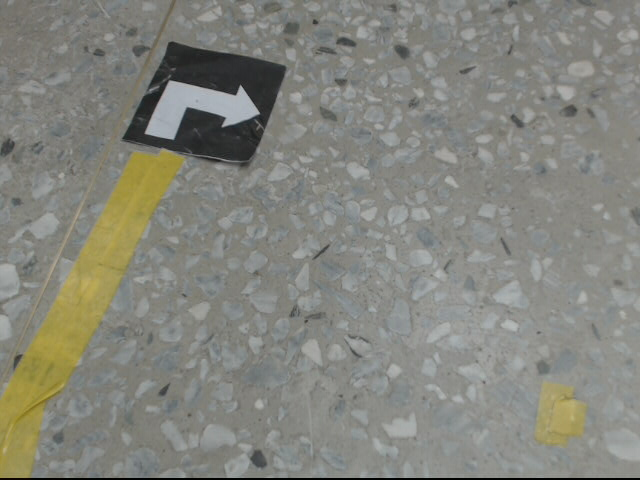right: (123, 41, 289, 166)
